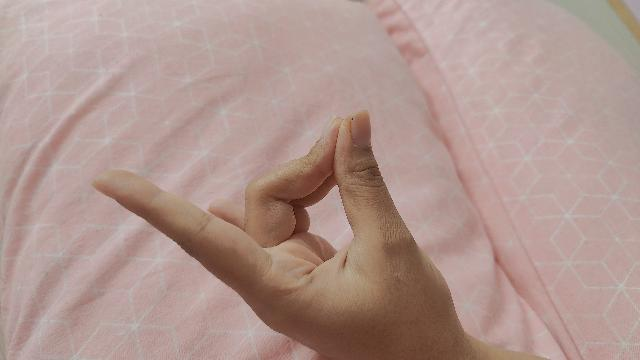sinhamukh: (91, 112, 548, 360)
